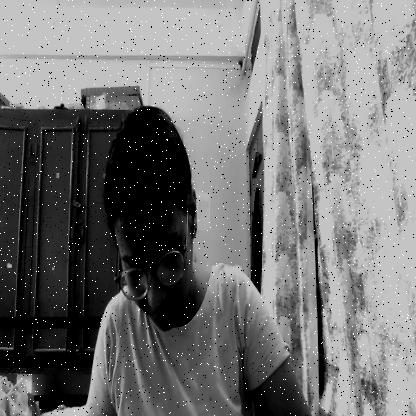Distracted: (110, 110, 196, 338)
